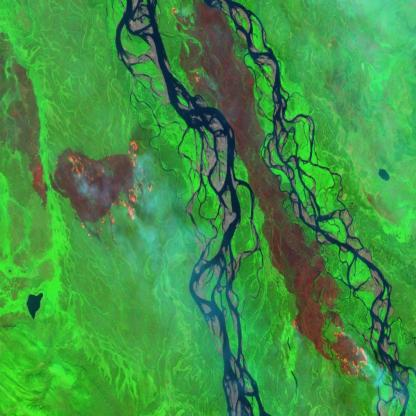fire: (71, 136, 155, 245), (327, 322, 381, 388)
